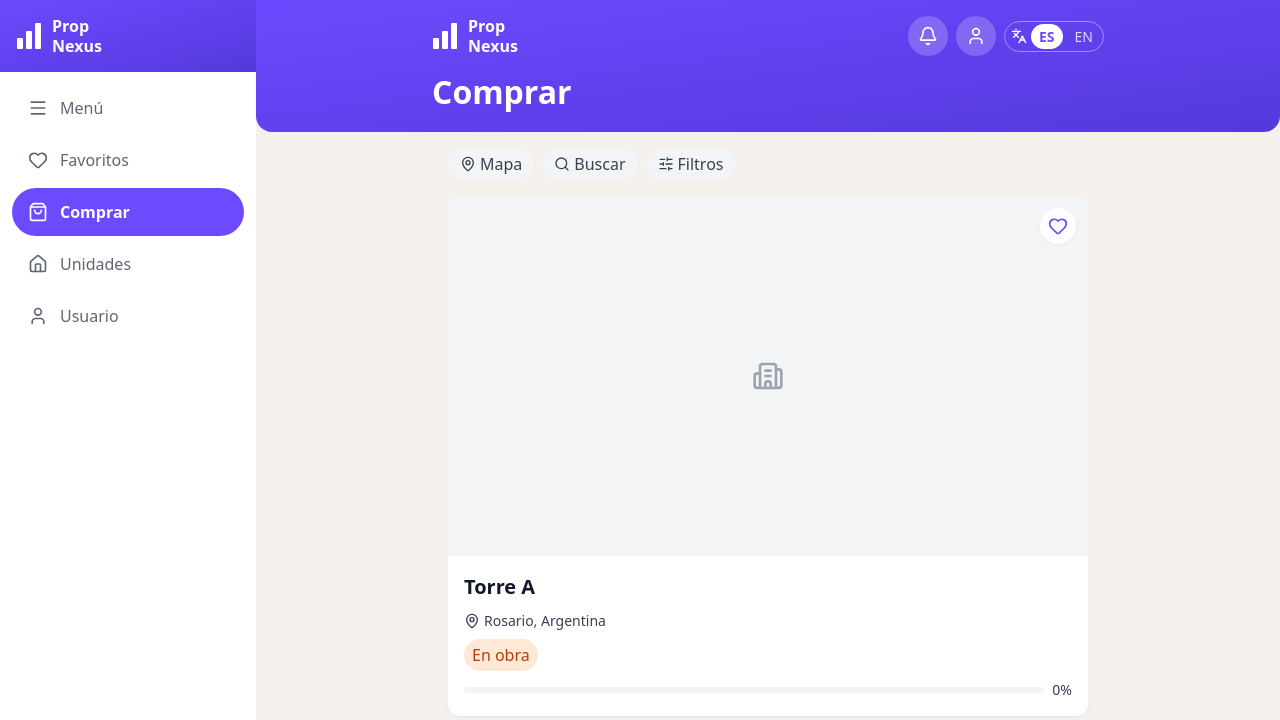
Test case: /investor/buy › las tres vistas de la barra › Filtros abre INV-BUY-FILTER-001 y Escape lo cierra
The width and height of the screenshot is (1280, 720).
Expected: the text "Torre A" is shown, [464,573,535,600]
Click the button "Filtros": (690, 164) [646,148,736,180]
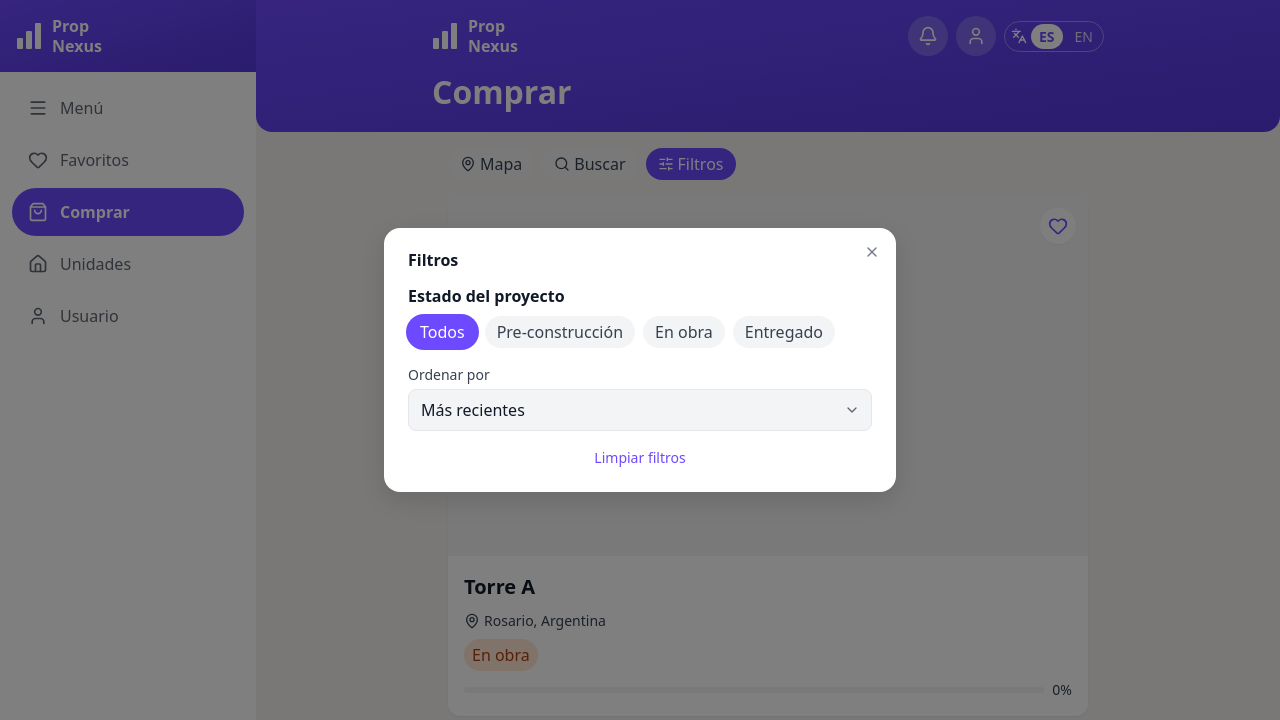
Expected: the dialog with test id "INV-BUY-FILTER-001" is shown, [384,228,896,492]
Press Escape
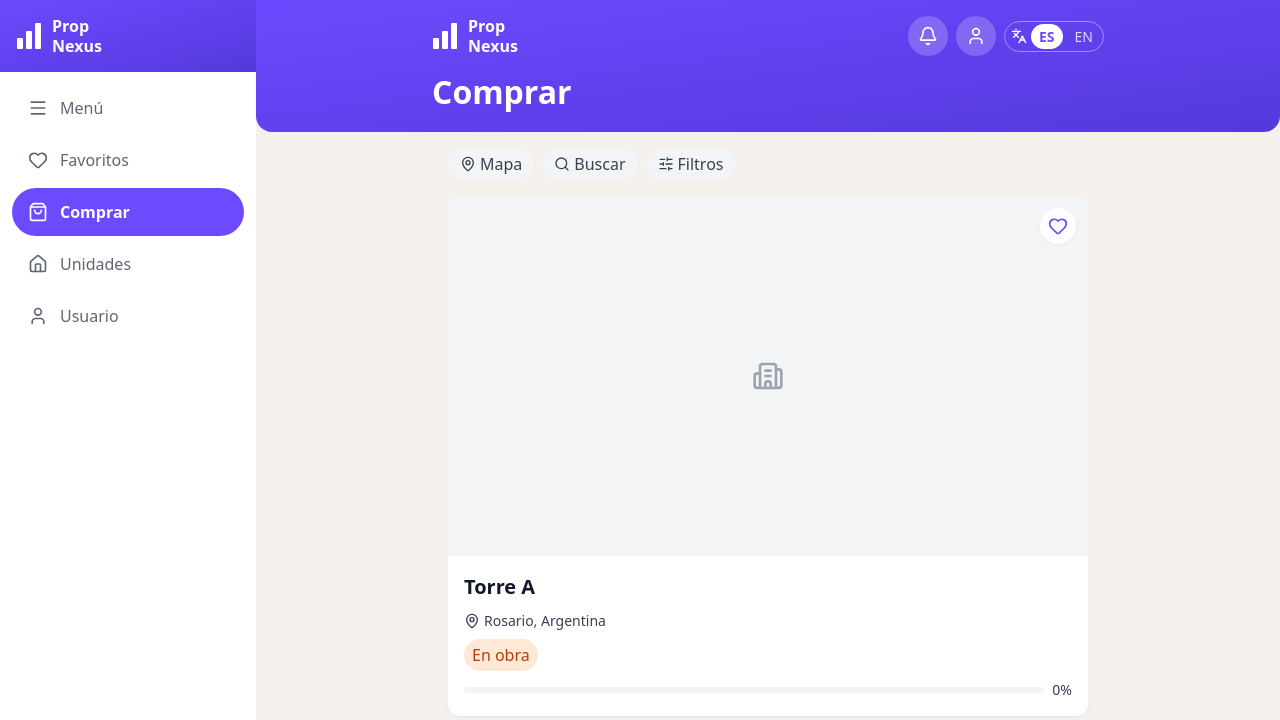
Expected: the dialog with test id "INV-BUY-FILTER-001" is gone
